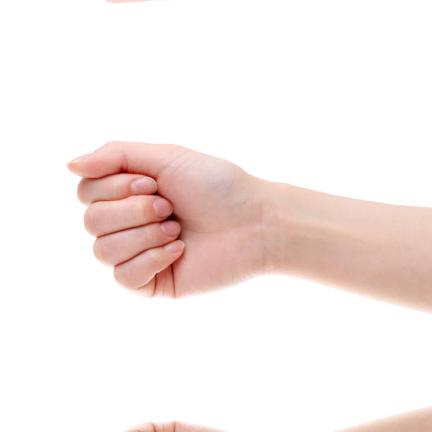Nail: (152, 198, 173, 218), (131, 178, 157, 194), (66, 153, 94, 165), (161, 221, 180, 237), (164, 240, 185, 253)
